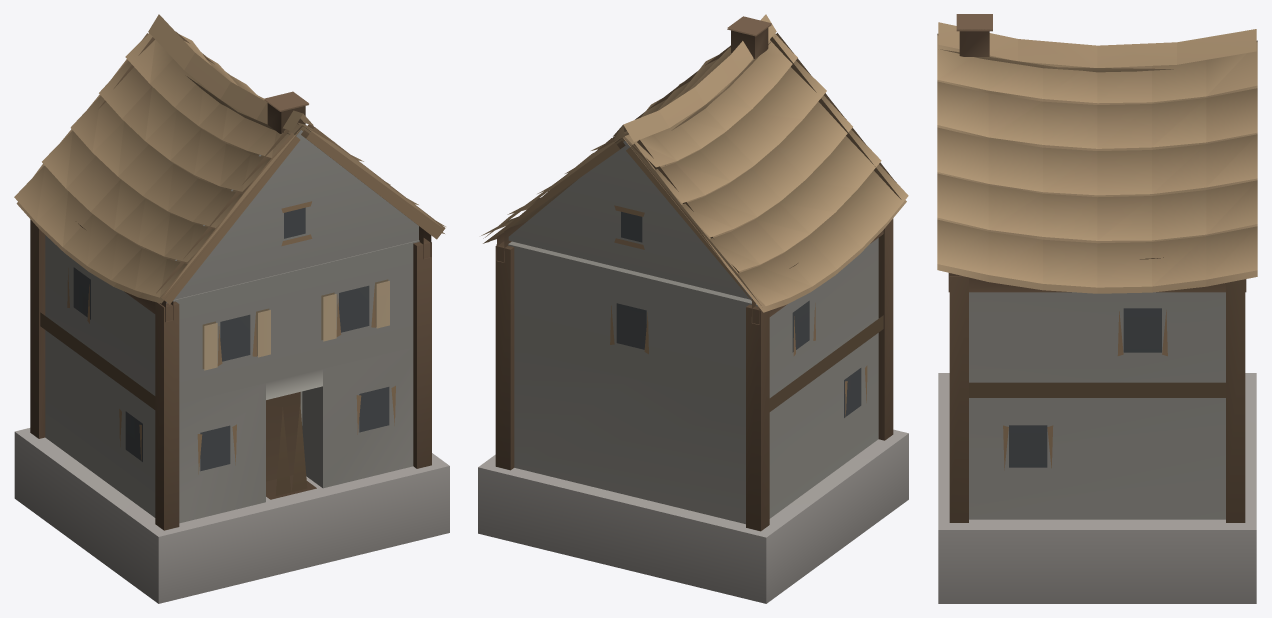
The model's file is tavern.lod.glb.
The picture shows the model from 3 angles, left to right: view 1: azimuth 30°, elevation 25°; view 2: azimuth 150°, elevation 25°; view 3: azimuth 270°, elevation 25°; orthographic projection. The views are drawn at different scales.
Visible parts, largest first — view 1: tavern; view 2: tavern; view 3: tavern.
Part boxes in pixels (x1,y1,x2,y2): tavern: [14, 14, 449, 603]; tavern: [478, 14, 908, 603]; tavern: [937, 14, 1257, 603].
Size of the model in its own units: 6.98 by 10.4 by 6.
